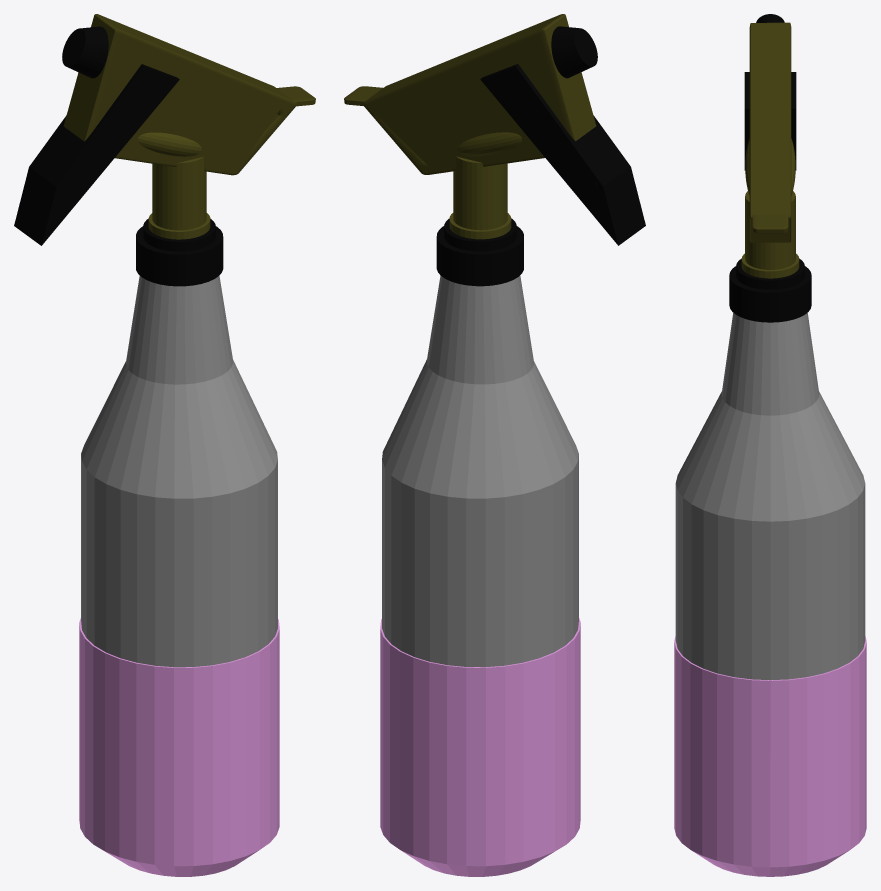
Rendered from sprayBottle.fbx.
3 views of the same model, side by side, from view 1: azimuth 30°, elevation 25°; view 2: azimuth 150°, elevation 25°; view 3: azimuth 270°, elevation 25° (orthographic). The views are drawn at different scales.
Parts seen in each view (by area): view 1: Cylinder, Cylinder.005, Cube, Cube.001, Cylinder.004, Cylinder.001, Cylinder.006, Cylinder.007, Cylinder.002, Cylinder.003; view 2: Cylinder, Cylinder.005, Cube, Cube.001, Cylinder.004, Cylinder.001, Cylinder.006, Cylinder.007, Cylinder.002, Cylinder.003; view 3: Cylinder, Cylinder.005, Cube, Cylinder.001, Cylinder.004, Cube.001, Cylinder.002, Cube.004, Cylinder.003, Cylinder.007.
Boxes of the visible parts, bbox=[...] form: Cylinder: bbox=[81, 275, 277, 667]; Cylinder.005: bbox=[79, 618, 279, 876]; Cube: bbox=[63, 14, 296, 175]; Cube.001: bbox=[14, 64, 179, 245]; Cylinder.004: bbox=[152, 156, 206, 230]; Cylinder.001: bbox=[136, 226, 223, 286]; Cylinder.006: bbox=[62, 26, 108, 78]; Cylinder.007: bbox=[138, 132, 201, 156]; Cylinder.002: bbox=[143, 218, 215, 251]; Cylinder.003: bbox=[148, 213, 210, 239]; Cylinder: bbox=[382, 275, 578, 667]; Cylinder.005: bbox=[380, 618, 580, 876]; Cube: bbox=[363, 14, 596, 174]; Cube.001: bbox=[480, 64, 645, 245]; Cylinder.004: bbox=[453, 156, 507, 230]; Cylinder.001: bbox=[436, 226, 523, 286]; Cylinder.006: bbox=[551, 26, 597, 78]; Cylinder.007: bbox=[458, 132, 521, 156]; Cylinder.002: bbox=[444, 218, 516, 251]; Cylinder.003: bbox=[449, 213, 511, 239]; Cylinder: bbox=[675, 313, 865, 680]; Cylinder.005: bbox=[674, 636, 866, 876]; Cube: bbox=[749, 22, 791, 242]; Cylinder.001: bbox=[729, 266, 811, 322]; Cylinder.004: bbox=[745, 191, 795, 269]; Cube.001: bbox=[744, 72, 796, 170]; Cylinder.002: bbox=[736, 258, 804, 289]; Cube.004: bbox=[752, 214, 788, 233]; Cylinder.003: bbox=[741, 253, 799, 278]; Cylinder.007: bbox=[745, 138, 795, 195].
Size of the model in its own units: 333 by 957 by 210.
